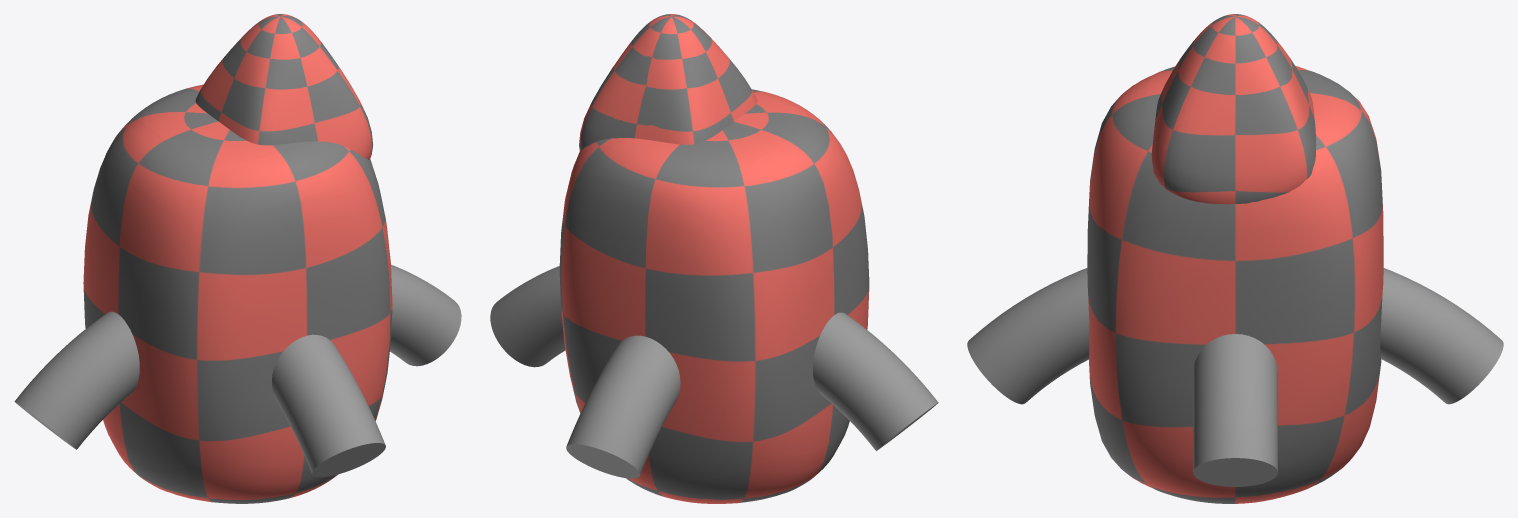
Rendered from Body(Oblong)+Colour(More_Red)+Pattern(Checkered)+Arm_Angle(Bent_Down)+Hat(Pyramidal).fbx.
3 views of the same model, side by side, from view 1: azimuth 30°, elevation 25°; view 2: azimuth 150°, elevation 25°; view 3: azimuth 270°, elevation 25° (orthographic). The views are drawn at different scales.
Parts seen in each view (by area): view 1: Body(Oblong)+Colour(More_Red)+Pattern(Checkered)+Arm_Angle(B (×5); view 2: Body(Oblong)+Colour(More_Red)+Pattern(Checkered)+Arm_Angle(B (×5); view 3: Body(Oblong)+Colour(More_Red)+Pattern(Checkered)+Arm_Angle(B (×5).
Part boxes in pixels (left/top/right/bottom): Body(Oblong)+Colour(More_Red)+Pattern(Checkered)+Arm_Angle(B (×5): left=14, top=14, right=461, bottom=503; Body(Oblong)+Colour(More_Red)+Pattern(Checkered)+Arm_Angle(B (×5): left=490, top=14, right=938, bottom=503; Body(Oblong)+Colour(More_Red)+Pattern(Checkered)+Arm_Angle(B (×5): left=967, top=14, right=1503, bottom=503.
Bounding box in the file's own units: 50.67 × 50 × 50.67.
2 materials, 1 textured.
